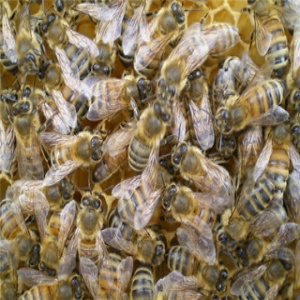bee: (252, 1, 286, 71), (173, 141, 221, 180), (15, 100, 39, 174), (48, 134, 102, 165), (99, 78, 149, 109), (81, 194, 100, 259), (158, 1, 188, 32), (41, 12, 65, 48), (218, 108, 252, 129), (273, 250, 292, 286), (135, 269, 153, 300)
